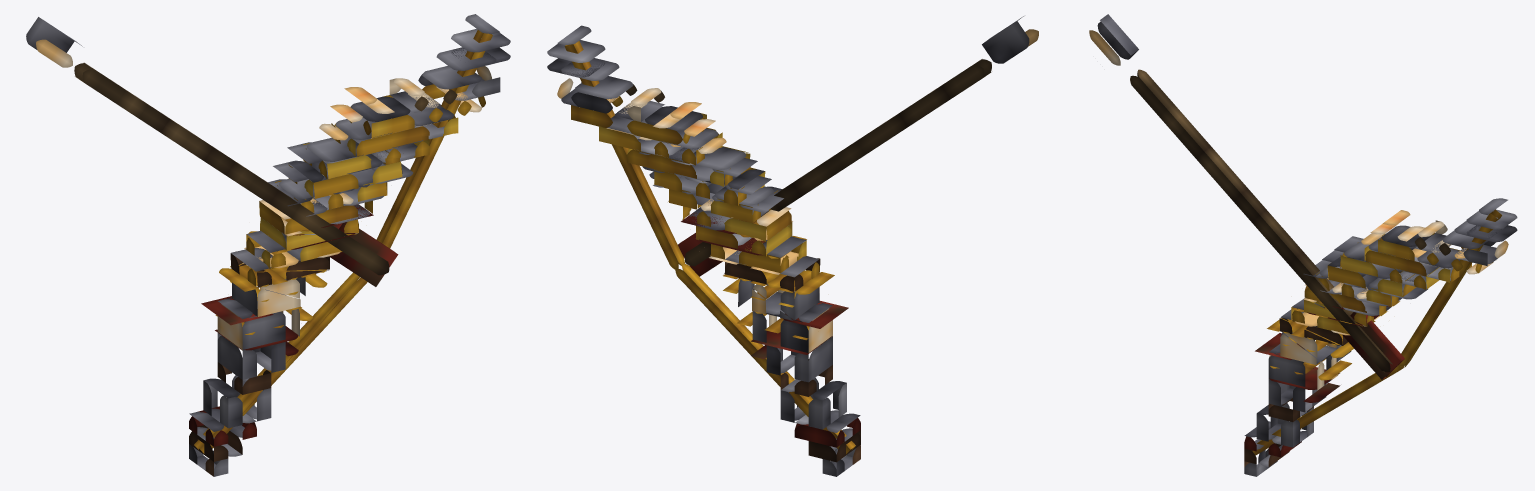
The model's file is ambush_bow_pulling_0.obj.
3 renders of one model, left to right at view 1: azimuth 30°, elevation 25°; view 2: azimuth 150°, elevation 25°; view 3: azimuth 330°, elevation 25°, orthographic. The views are drawn at different scales.
Visible parts, largest first — view 1: lit, fire; view 2: lit, fire; view 3: lit, fire.
Part boxes in pixels (<box>): lit: <box>26,14,510,476</box>; fire: <box>329,222,398,286</box>; lit: <box>547,16,1038,476</box>; fire: <box>678,233,722,276</box>; lit: <box>1089,14,1517,476</box>; fire: <box>1342,312,1404,379</box>.
Bounding box in the file's own units: 1.08 × 1.03 × 0.1125.
